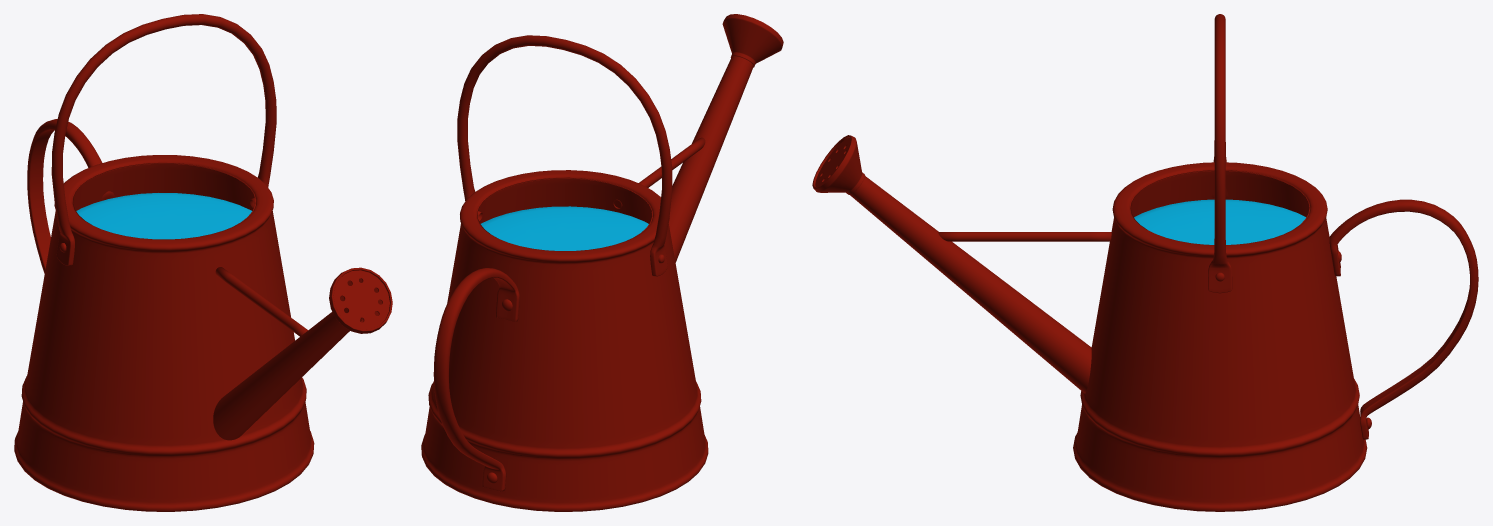
Rendered from Konewka.fbx.
3 renders of one model, left to right at view 1: azimuth 30°, elevation 25°; view 2: azimuth 150°, elevation 25°; view 3: azimuth 270°, elevation 25°, orthographic. The views are drawn at different scales.
Parts seen in each view (by area): view 1: Konewka, Woda1.002; view 2: Konewka, Woda1.002; view 3: Konewka, Woda1.002.
Part boxes in pixels (x1,y1,x2,y2): Konewka: (14, 14, 392, 511); Woda1.002: (76, 193, 252, 239); Konewka: (421, 14, 783, 511); Woda1.002: (480, 206, 648, 250); Konewka: (812, 14, 1478, 511); Woda1.002: (1134, 199, 1305, 244).
Bounding box in the file's own units: 0.2886 × 0.4565 × 0.6536.
